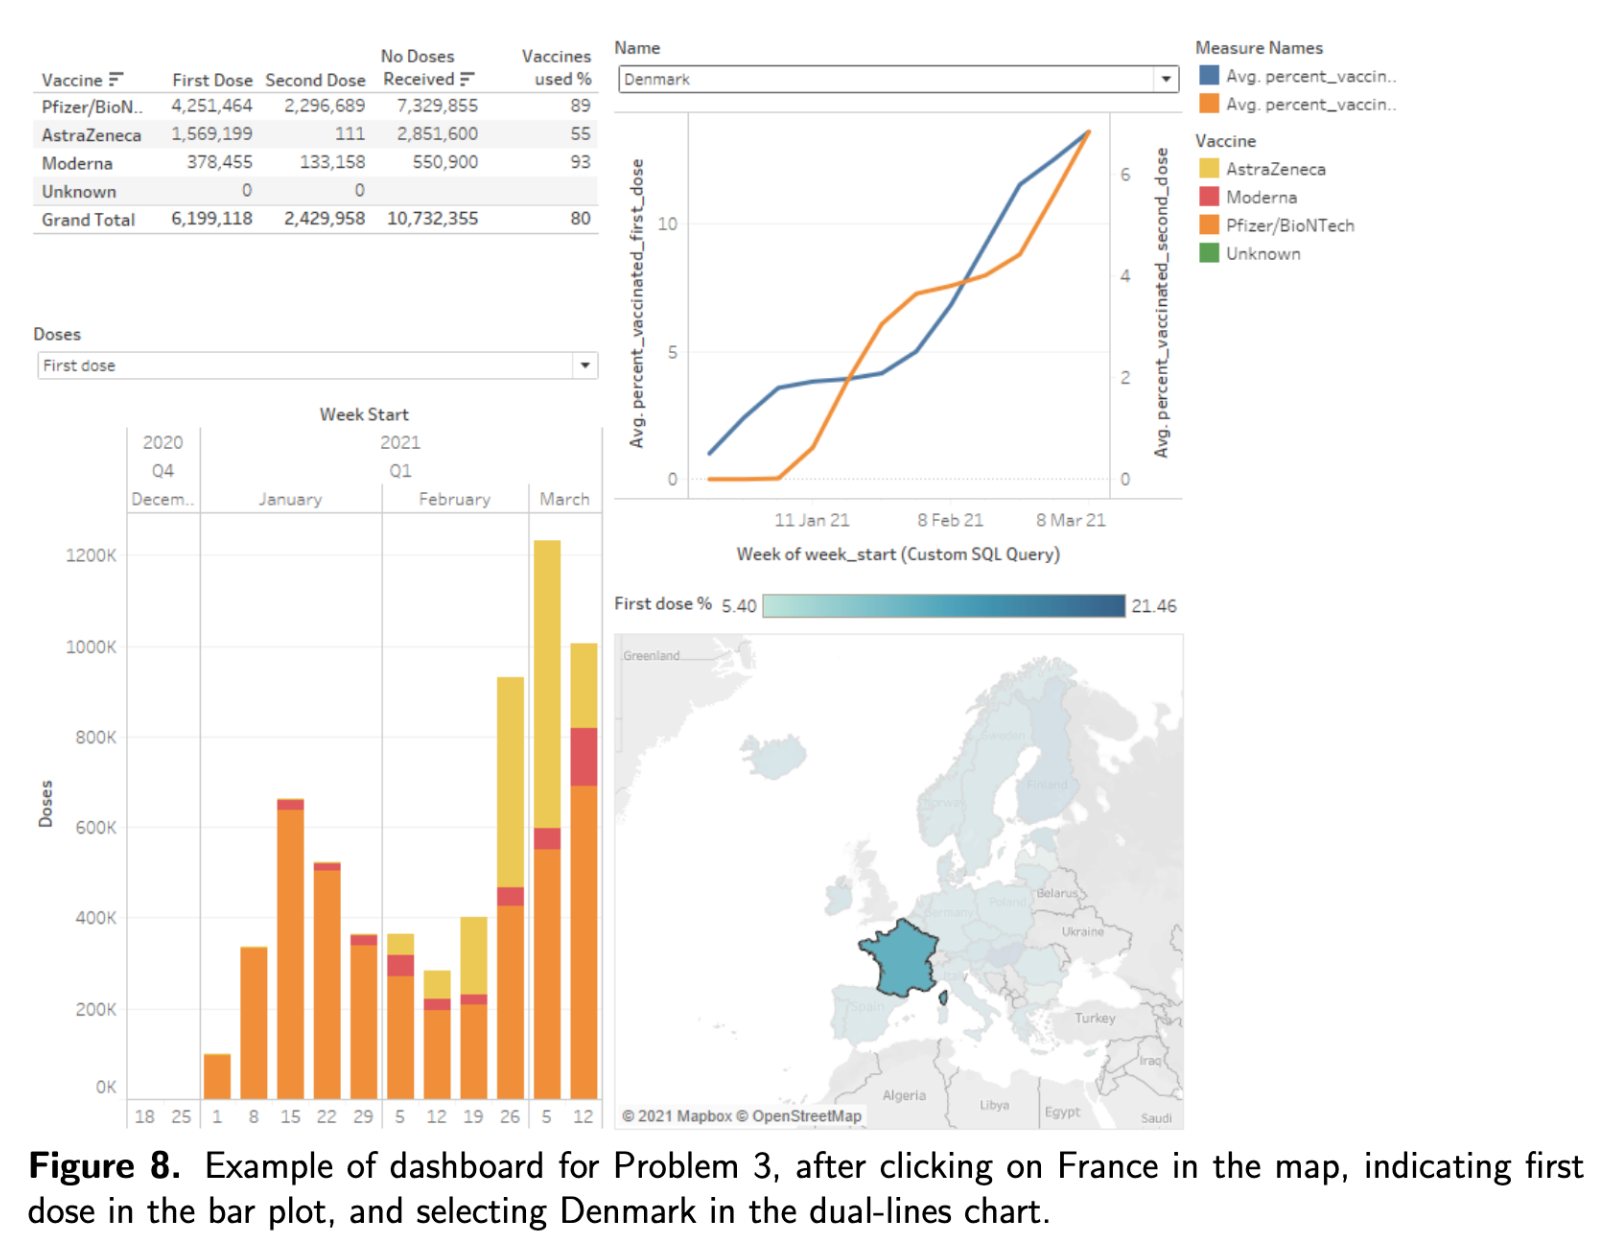

This screenshot's page, from the dashboard's own definition file:
{"tool":"tableau","page":{"name":"World","canvas":[1000,800],"ordinal":0},"visuals":[{"type":"worksheet","box":[0,0,1000,800]},{"type":"worksheet","param":"horz","box":[8,8,984,784]},{"type":"worksheet","box":[8,8,824,784]},{"type":"worksheet","title":"Sheet 1","mark":"Automatic","rows":["Name (city)"],"cols":["Population (city)"],"box":[8,8,824,392]},{"type":"worksheet","param":"vert","box":[832,8,160,784]},{"type":"worksheet","title":"Sheet 1","mark":"Automatic","rows":["Name (city)"],"cols":["Population (city)"],"param":"[federated.0ham8wf12u8j9x19axdbd1m0x4ev].[none:Name:nk]","box":[832,8,160,52]},{"type":"worksheet","title":"Sheet 2","mark":"Automatic","param":"[federated.0ham8wf12u8j9x19axdbd1m0x4ev].[none:GovernmentForm:nk]","box":[832,60,160,686]},{"type":"worksheet","title":"Sheet 2","mark":"Automatic","box":[8,400,824,392]}]}

Visuals, with their boxes on the page's 1000x800 design canvas (x1, y1, x2, y2). These are canvas units, not pixel positions in the 1610x1250 screenshot, which may show the page scaled, cropped or inside an application window:
worksheet: <region>0, 0, 1000, 800</region>
worksheet: <region>8, 8, 992, 792</region>
worksheet: <region>8, 8, 832, 792</region>
"Sheet 1" worksheet: <region>8, 8, 832, 400</region>
worksheet: <region>832, 8, 992, 792</region>
"Sheet 1" worksheet: <region>832, 8, 992, 60</region>
"Sheet 2" worksheet: <region>832, 60, 992, 746</region>
"Sheet 2" worksheet: <region>8, 400, 832, 792</region>
